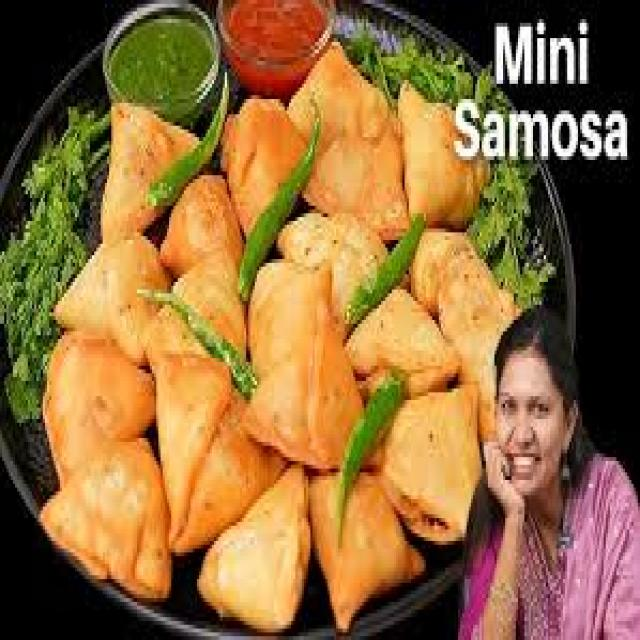SAMOSA: (140, 303, 291, 545), (295, 40, 411, 238), (247, 306, 387, 468), (37, 441, 171, 602), (309, 466, 434, 636), (198, 464, 310, 636), (43, 329, 154, 488), (51, 230, 165, 370), (99, 105, 209, 248), (385, 389, 483, 546), (394, 67, 485, 229), (212, 97, 309, 247), (341, 287, 459, 395), (247, 253, 332, 389), (161, 154, 247, 277)
